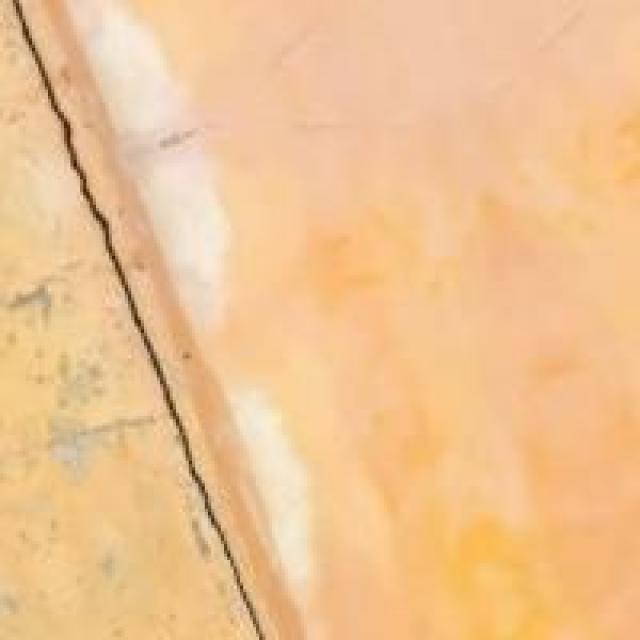Crack: (7, 8, 292, 632)
